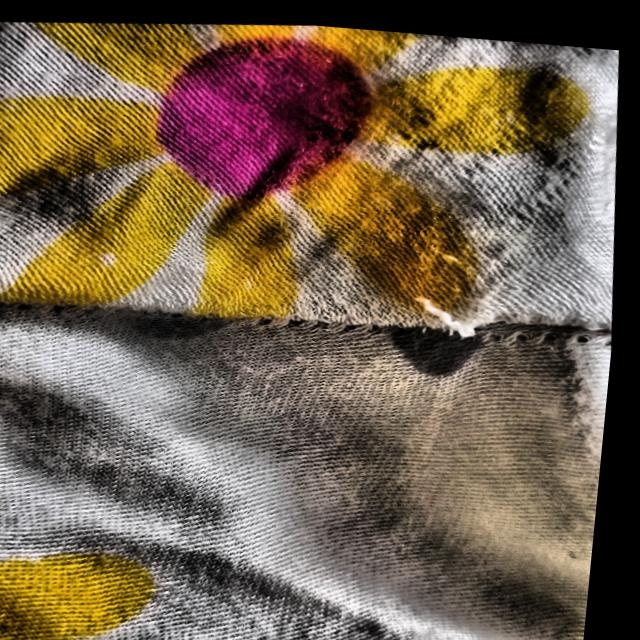Stitch: (395, 259, 512, 375), (403, 276, 502, 368)
